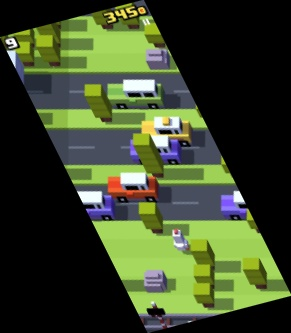car: (107, 79, 165, 109), (142, 116, 192, 149), (130, 133, 180, 165), (221, 190, 271, 221), (108, 173, 158, 202), (67, 191, 115, 220)
duck: (170, 228, 188, 252)
light off: (147, 303, 171, 333)
rail: (136, 312, 221, 330)
rock: (143, 269, 166, 293), (146, 48, 170, 70)
tree: (84, 84, 113, 123), (35, 36, 62, 67), (138, 201, 162, 235), (242, 257, 266, 288), (114, 1, 139, 27), (37, 18, 60, 46), (92, 1, 114, 29), (11, 41, 35, 66), (190, 239, 213, 265), (145, 21, 166, 48), (193, 264, 215, 287), (221, 150, 238, 179), (14, 22, 35, 45), (193, 284, 213, 307)
